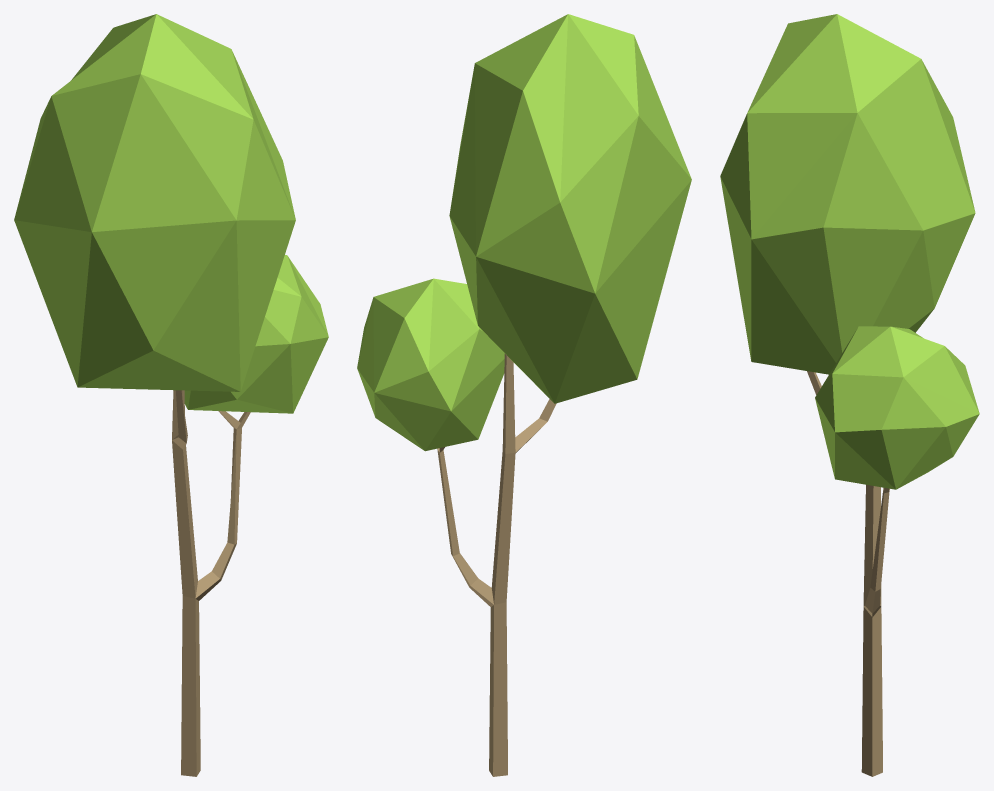
Rendered from Random_Tree_s_01_LOD.fbx.
The picture shows the model from 3 angles, left to right: view 1: azimuth 30°, elevation 25°; view 2: azimuth 150°, elevation 25°; view 3: azimuth 270°, elevation 25°; orthographic projection. The views are drawn at different scales.
Parts seen in each view (by area): view 1: Random_Tree_s_01_LOD0; view 2: Random_Tree_s_01_LOD0; view 3: Random_Tree_s_01_LOD0.
Part boxes in pixels (<box>): Random_Tree_s_01_LOD0: <box>14,14,328,776</box>; Random_Tree_s_01_LOD0: <box>357,14,691,776</box>; Random_Tree_s_01_LOD0: <box>720,14,979,776</box>.
Size of what is drawn, in the model's own units: 161 by 424 by 136.
